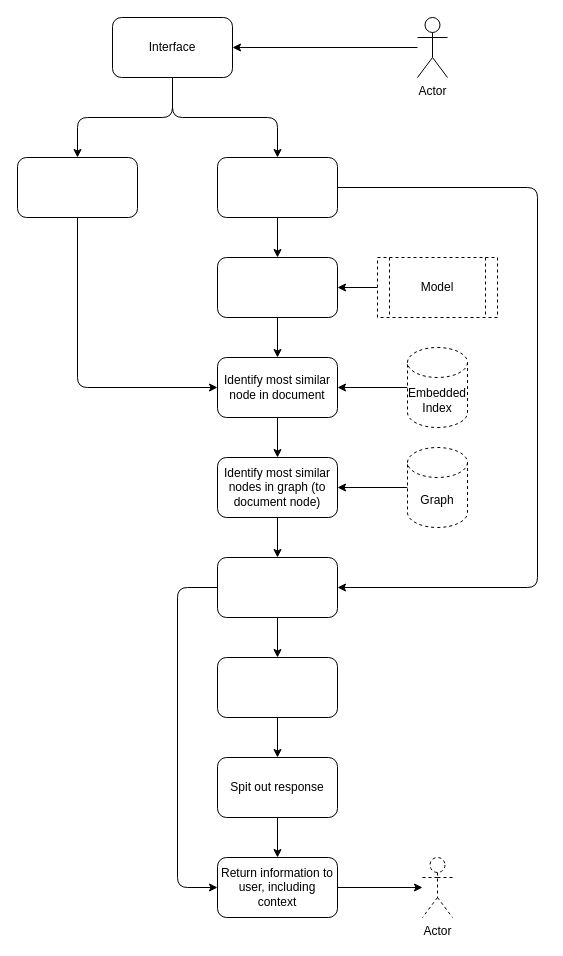
Some shapes in this 563 by 956 pixel diagram are drawn without their labels. Each missing label, with the centre of its shape:
"Combine into context for llm query" goes at [277,587].
"Embed Query" goes at [277,287].
"Input Query" goes at [277,187].
"Query LLM" goes at [277,687].
"Select Base Document" goes at [77,187].
